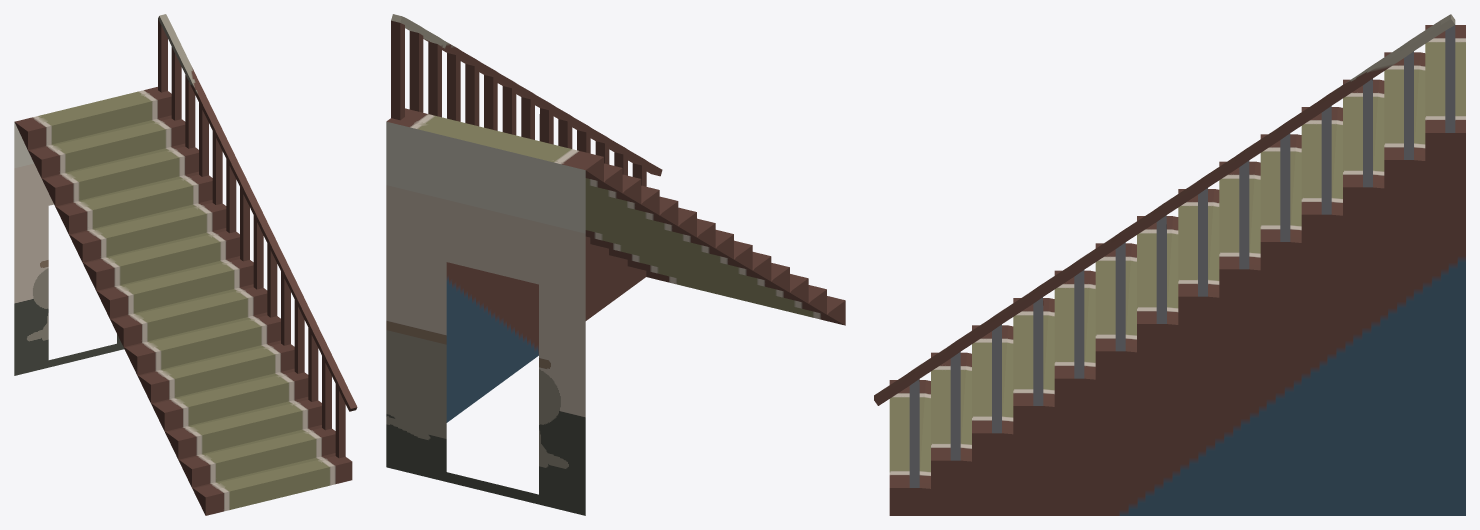
File: M_StepsUp.fbx
3 renders of one model, left to right at view 1: azimuth 30°, elevation 25°; view 2: azimuth 150°, elevation 25°; view 3: azimuth 270°, elevation 25°, orthographic. The views are drawn at different scales.
Visible parts, largest first — view 1: Steps2; view 2: Steps2; view 3: Steps2.
Part boxes in pixels (x1=…): Steps2: x1=14, y1=14, x2=357, y2=515; Steps2: x1=386, y1=14, x2=845, y2=515; Steps2: x1=874, y1=14, x2=1465, y2=515.
Bounding box in the file's own units: 174 × 374 × 403.
